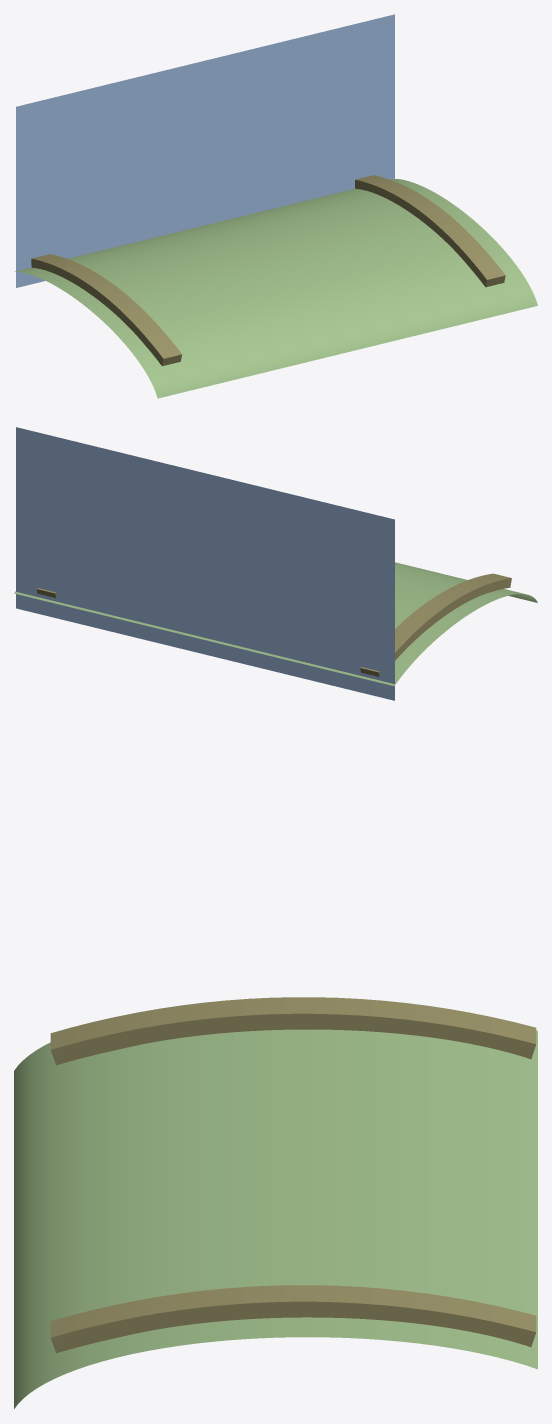
Rendered from wold.fbx.
The picture shows the model from 3 angles, top to bottom: view 1: azimuth 30°, elevation 25°; view 2: azimuth 150°, elevation 25°; view 3: azimuth 270°, elevation 25°; orthographic projection. The views are drawn at different scales.
Visible parts, largest first — view 1: pCube2; view 2: pCube2; view 3: pCube2.
Part boxes in pixels (x1,y1,x2,y2): pCube2: (14,14,537,398); pCube2: (14,427,537,700); pCube2: (14,997,537,1408).
Size of the model in its own units: 9808 by 4622 by 6415.
